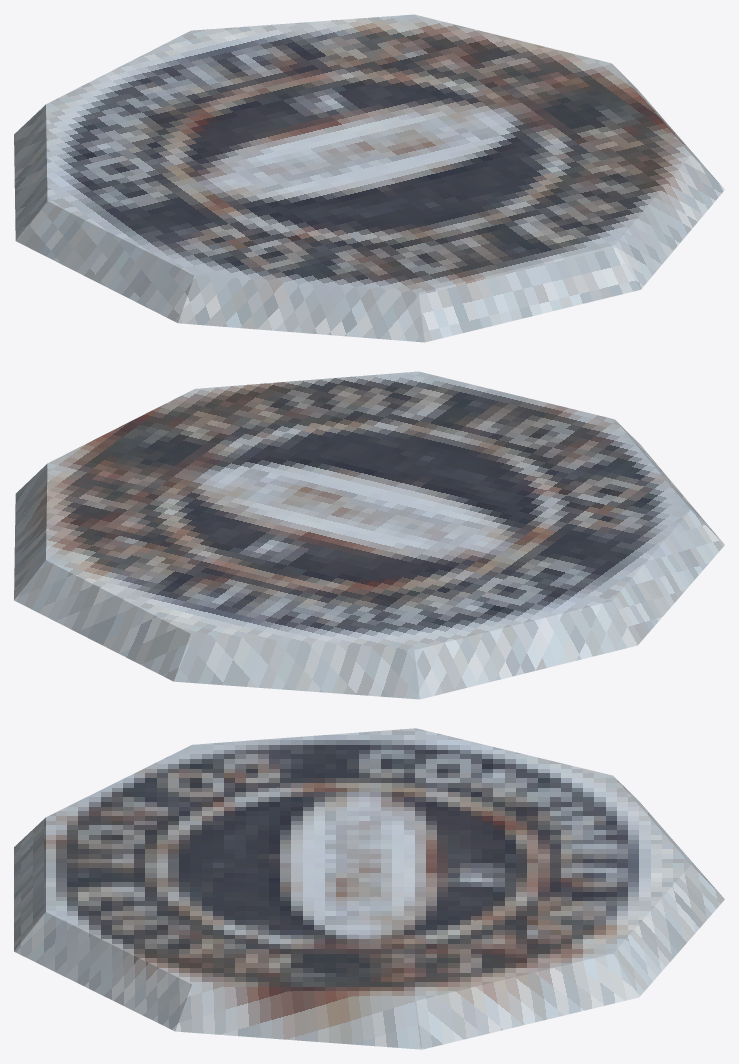
The model's file is Classic64_SignConfinedSpace_Model.fbx.
3 renders of one model, top to bottom at view 1: azimuth 30°, elevation 25°; view 2: azimuth 150°, elevation 25°; view 3: azimuth 270°, elevation 25°, orthographic.
Parts seen in each view (by area): view 1: Classic64_SignConfinedSpace_Part000; view 2: Classic64_SignConfinedSpace_Part000; view 3: Classic64_SignConfinedSpace_Part000.
Boxes of the visible parts, x1,y1,x2,y2 form: Classic64_SignConfinedSpace_Part000: (14,14,724,342); Classic64_SignConfinedSpace_Part000: (14,371,724,699); Classic64_SignConfinedSpace_Part000: (14,728,724,1049).
Bounding box in the file's own units: 0.1524 × 0.00824 × 0.1524.
Materials: 1 (1 with a texture image).
